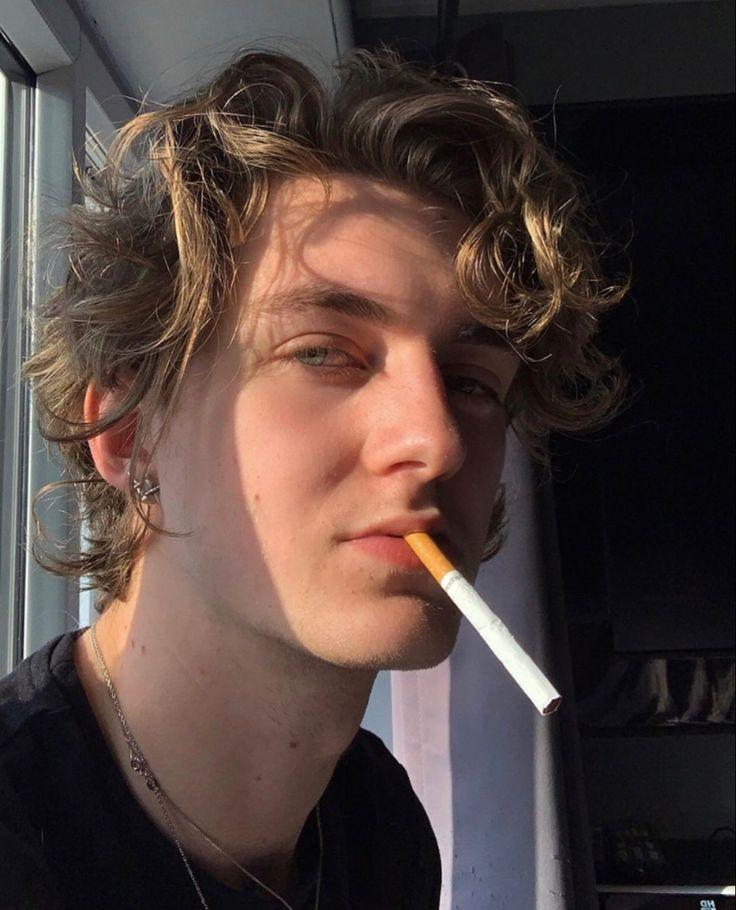cigarette: (402, 531, 563, 717)
